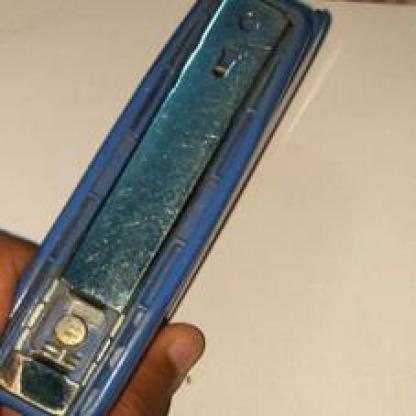stapler: (7, 7, 322, 414)
